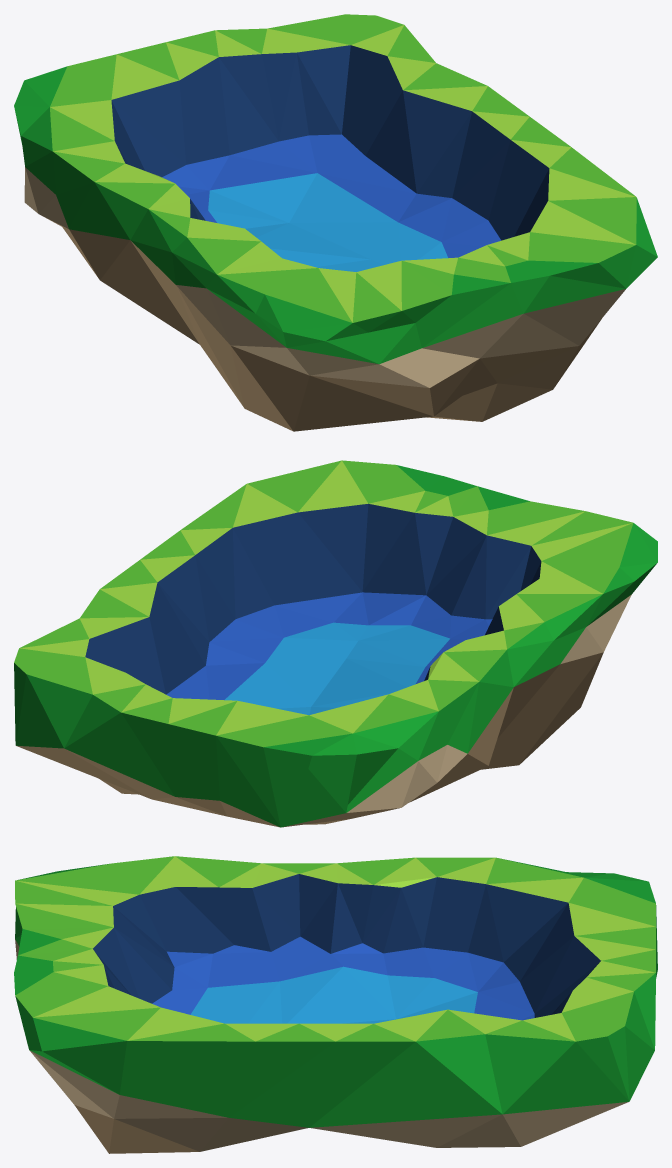
The model's file is Pool island.fbx.
3 views of the same model, one above another, from view 1: azimuth 30°, elevation 25°; view 2: azimuth 150°, elevation 25°; view 3: azimuth 270°, elevation 25° (orthographic). The views are drawn at different scales.
Visible parts, largest first — view 1: Cube; view 2: Cube; view 3: Cube.
Boxes of the visible parts, box(x1,y1,x2,y2) form: Cube: box(14, 14, 657, 431); Cube: box(14, 460, 657, 827); Cube: box(14, 856, 657, 1153).
Size of the model in its own units: 32124 by 13019 by 45174.
